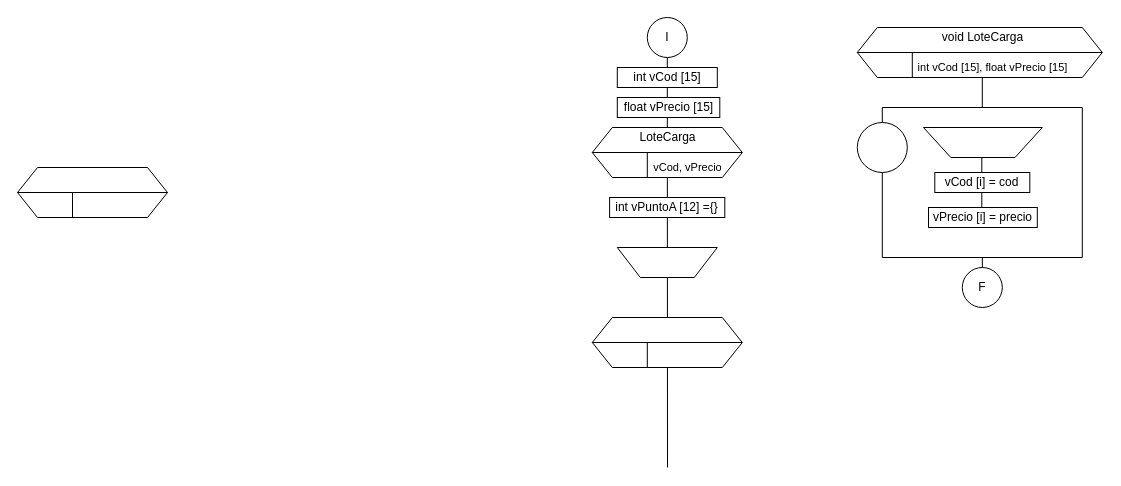
This 1121x486 diagram has some shape labels left out. Each missing label, with the centre of its shape:
cliente: pixel 666 262
cod, precio: pixel 982 142
i<15: pixel 881 147
